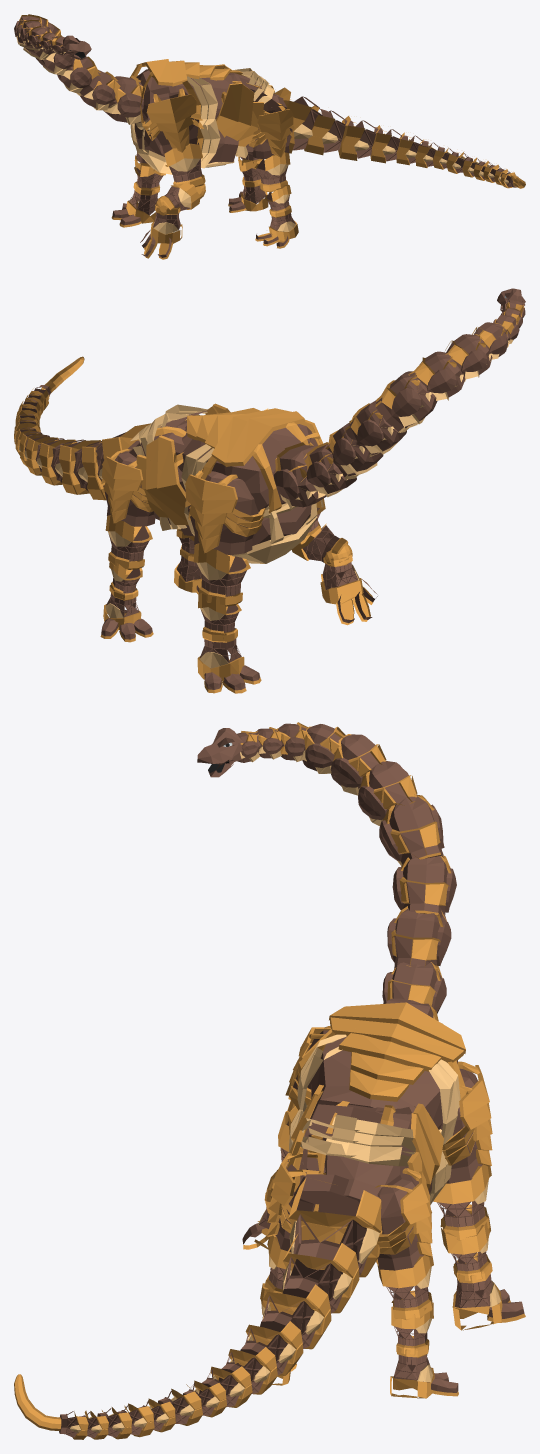
File: ankylosaurus.glb
3 renders of one model, top to bottom at view 1: azimuth 30°, elevation 25°; view 2: azimuth 150°, elevation 25°; view 3: azimuth 270°, elevation 25°, orthographic. The views are drawn at different scales.
Parts seen in each view (by area): view 1: group1030957574, group922828176, group507634768, group1704311236, group1873216536, group603752180, group829479278, group1631297953, group1695410745, group1415801536, group1260786419, group1727160909 (+20 smaller); view 2: group1030957574, group47184966, group1895281144, group1751146224, group1704311236, group1563645536, group867997557, group829479278, group1680742682, group1255390527, group764799964, group1309104830 (+17 smaller); view 3: group1030957574, group1895281144, group922828176, group603752180, group1751146224, group47184966, group1563645536, group1680742682, group1695410745, group1260786419, group1415801536, group867997557 (+21 smaller).
Part boxes in pixels (<box>): group1030957574: <box>130,59,233,130</box>; group922828176: <box>216,70,286,158</box>; group507634768: <box>142,88,203,154</box>; group1704311236: <box>130,118,238,174</box>; group1873216536: <box>248,102,294,158</box>; group603752180: <box>274,87,332,153</box>; group829479278: <box>103,75,143,124</box>; group1631297953: <box>164,143,205,187</box>; group1695410745: <box>304,105,353,155</box>; group1415801536: <box>338,116,382,160</box>; group1260786419: <box>57,56,100,96</box>; group1727160909: <box>254,152,290,192</box>; group1030957574: <box>175,408,308,517</box>; group47184966: <box>185,469,265,555</box>; group1895281144: <box>124,413,196,530</box>; group1751146224: <box>101,449,155,526</box>; group1704311236: <box>181,500,317,563</box>; group1563645536: <box>375,371,437,432</box>; group867997557: <box>193,543,250,606</box>; group829479278: <box>274,442,326,509</box>; group1680742682: <box>345,400,406,457</box>; group1255390527: <box>197,628,244,681</box>; group764799964: <box>105,515,152,569</box>; group1309104830: <box>408,351,465,400</box>; group1030957574: <box>296,1002,466,1145</box>; group1895281144: <box>310,1101,443,1211</box>; group922828176: <box>286,1084,395,1216</box>; group603752180: <box>288,1177,382,1280</box>; group1751146224: <box>375,1168,432,1270</box>; group47184966: <box>440,1061,492,1183</box>; group1563645536: <box>379,794,444,865</box>; group1680742682: <box>392,855,456,917</box>; group1695410745: <box>282,1233,359,1313</box>; group1260786419: <box>387,906,451,969</box>; group1415801536: <box>260,1284,331,1349</box>; group867997557: <box>433,1164,491,1240</box>.
Bounding box in the file's own units: 1.35 × 0.83 × 0.8202.
